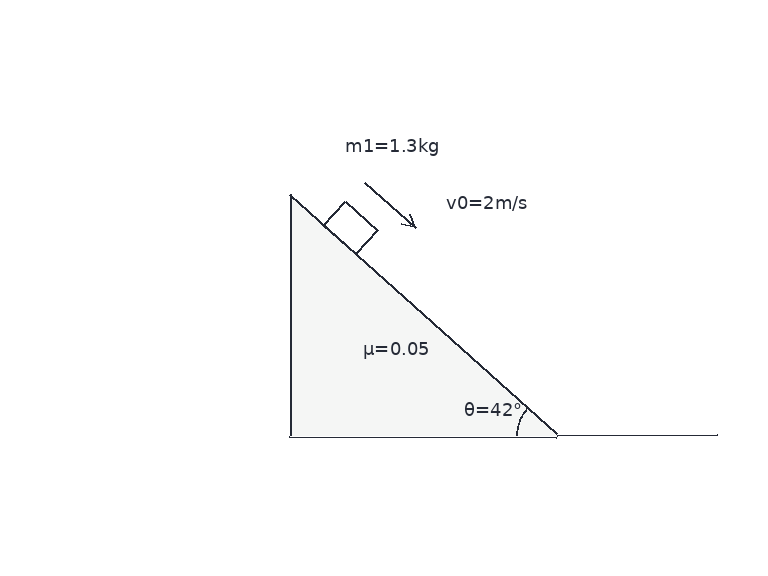block: (321, 198, 379, 256)
ramp: (288, 193, 559, 437)
